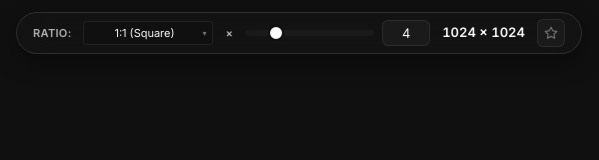
ArtboardToolbar › 点击收藏按钮应保存当前画布为收藏
Click the button named "Favorite Canvas" at (551, 33), box [537,19,565,47]
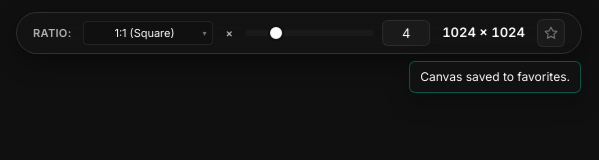
Now the text "Canvas saved to favorites." is shown, box [409,61,581,93]
